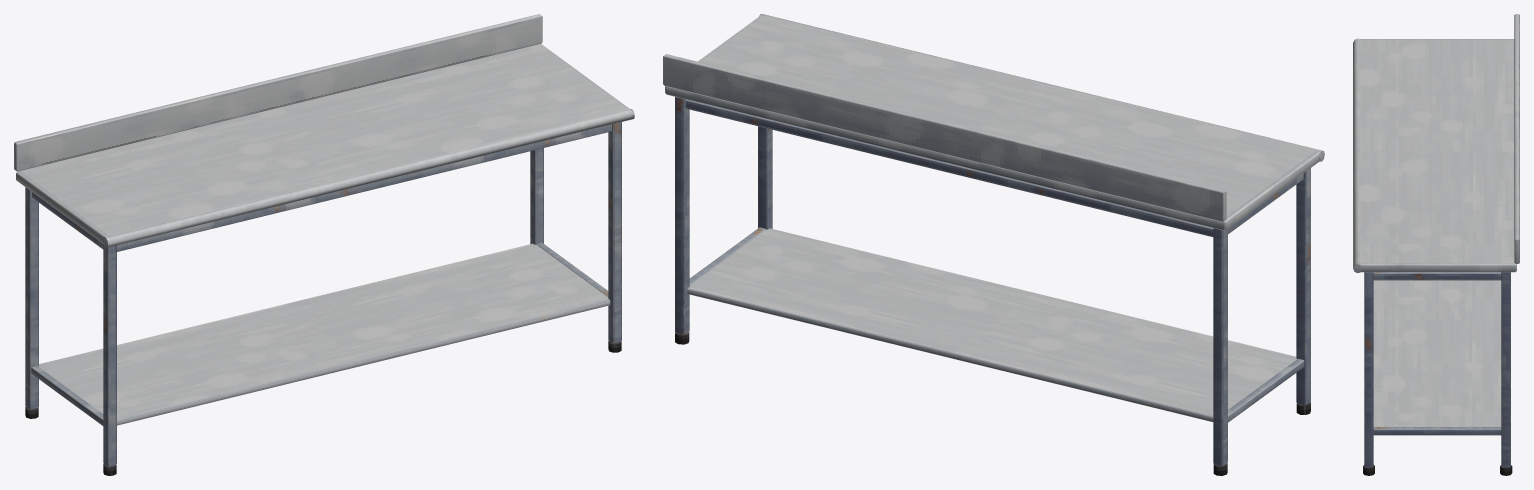
The model's file is kitchen_bench.glb.
3 renders of one model, left to right at view 1: azimuth 30°, elevation 25°; view 2: azimuth 150°, elevation 25°; view 3: azimuth 270°, elevation 25°, orthographic. The views are drawn at different scales.
Parts seen in each view (by area): view 1: mesh; view 2: mesh; view 3: mesh.
Part boxes in pixels (box(x1,y1,x2,y2)): mesh: box(14, 14, 634, 475); mesh: box(663, 14, 1324, 475); mesh: box(1353, 14, 1519, 475).
Size of the model in its own units: 1.95 by 0.9599 by 0.608.
Materials: 1 (1 with a texture image).
